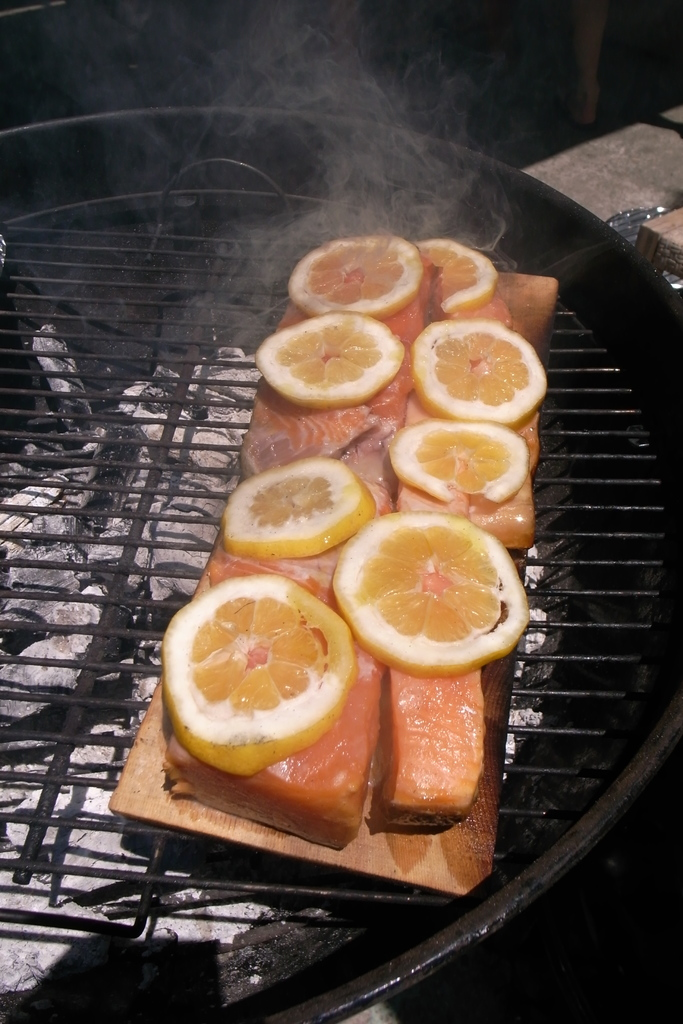Ripe: (161, 572, 362, 775), (327, 515, 532, 678), (218, 458, 378, 558), (261, 311, 409, 408), (413, 322, 544, 423), (388, 418, 532, 509), (287, 234, 427, 318), (422, 239, 498, 311)
